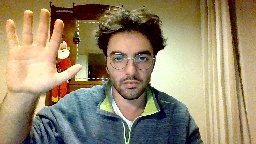Mano_aperta: (2, 7, 83, 96)
